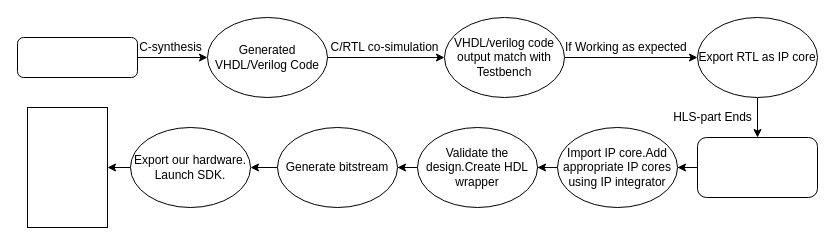
Image size: 835x245. Some labels were removed from this diagram. The shapes that lost their labels are listed below. From the top down, each one's centre as x and y in pixels, then its label:
At (77,57): "Modify C/C++ code. Add pragmas.Update datatypes.".
At (67,167): "Program and Test the output from FPGA by writing appropriate files in SDK.".
At (757,167): "Create a new projecct and block design in Vivado".
